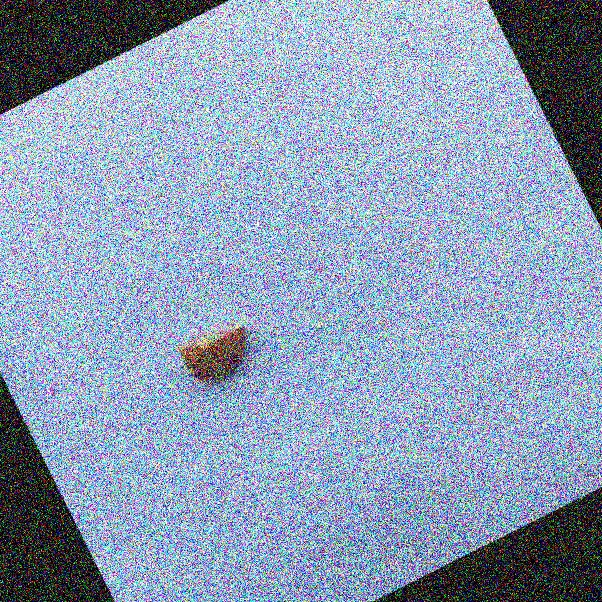grade4: (168, 308, 271, 398)
